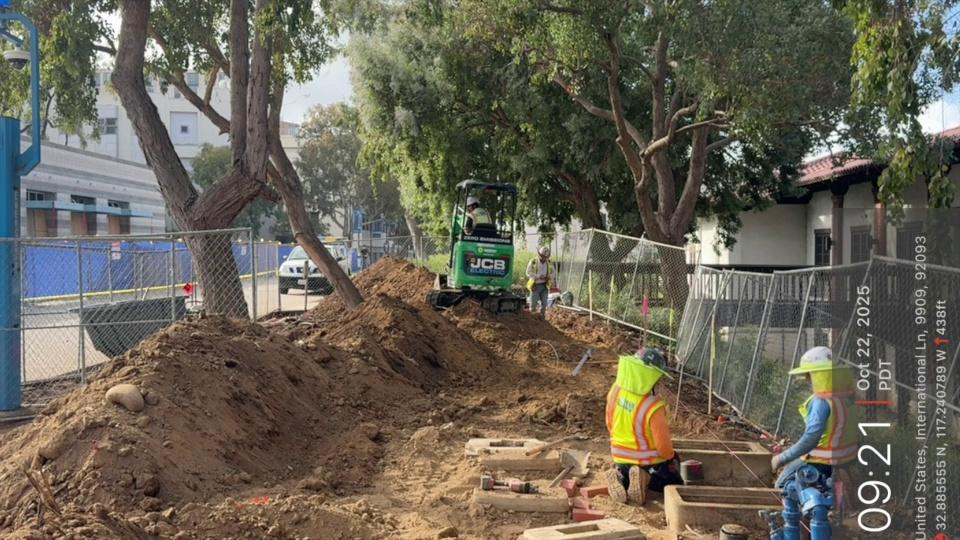Exacavator: (424, 177, 527, 316)
